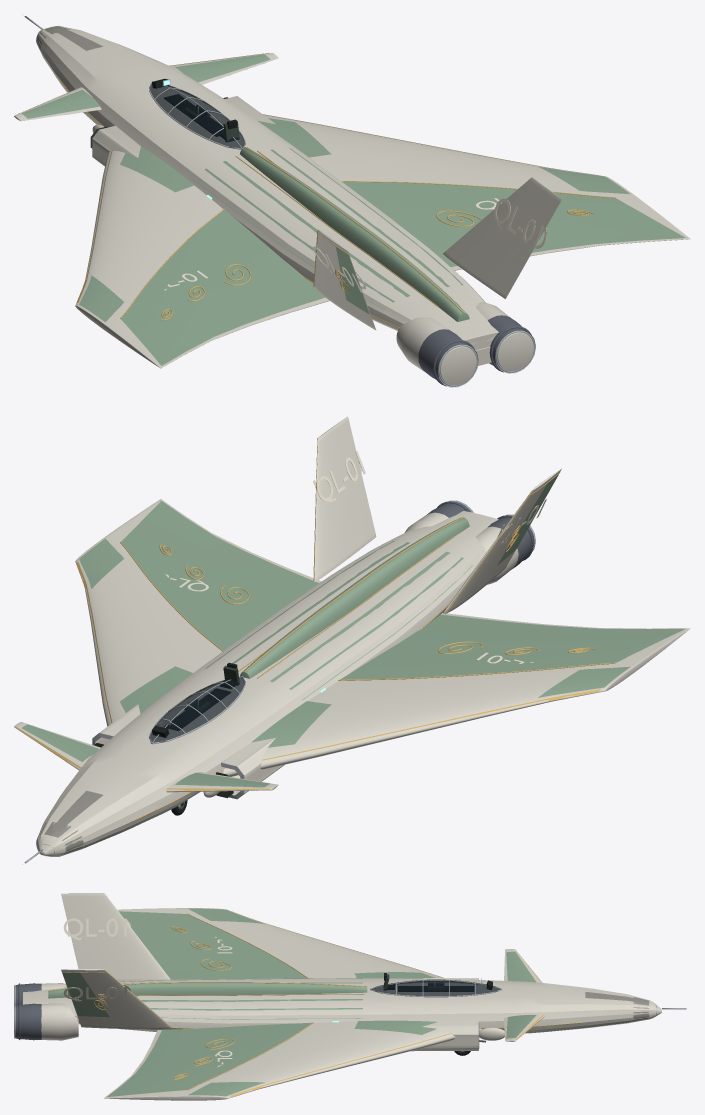
The model's file is showcase.glb.
3 renders of one model, top to bottom at view 1: azimuth 30°, elevation 25°; view 2: azimuth 150°, elevation 25°; view 3: azimuth 270°, elevation 25°, orthographic. The views are drawn at different scales.
Parts seen in each view (by area): view 1: showcase_body_Paint_Base, showcase_body_Paint_Secondary, showcase_body_Paint_Accent, showcase_body_Canopy_Glass, showcase_body_Metal_Heat, showcase_body_Metal_Detail, showcase_body_Paint_Marking, showcase_body_Paint_Dark, showcase_body_Paint_Radome; view 2: showcase_body_Paint_Base, showcase_body_Paint_Secondary, showcase_body_Paint_Accent, showcase_body_Canopy_Glass, showcase_body_Metal_Detail, showcase_body_Paint_Marking, showcase_body_Paint_Radome, showcase_body_Metal_Heat, showcase_body_Paint_Dark; view 3: showcase_body_Paint_Base, showcase_body_Paint_Secondary, showcase_body_Paint_Accent, showcase_body_Canopy_Glass, showcase_body_Metal_Heat, showcase_body_Paint_Marking, showcase_body_Metal_Detail, showcase_body_Paint_Radome, showcase_body_Paint_Dark.
Part boxes in pixels (x1,y1,x2,y2): showcase_body_Paint_Base: [14, 26, 690, 385]; showcase_body_Paint_Secondary: [21, 54, 685, 365]; showcase_body_Paint_Accent: [18, 53, 615, 328]; showcase_body_Canopy_Glass: [149, 83, 245, 148]; showcase_body_Metal_Heat: [418, 315, 531, 386]; showcase_body_Metal_Detail: [22, 14, 535, 387]; showcase_body_Paint_Marking: [164, 198, 546, 292]; showcase_body_Paint_Dark: [152, 78, 237, 139]; showcase_body_Paint_Radome: [36, 26, 102, 50]; showcase_body_Paint_Base: [14, 416, 690, 856]; showcase_body_Paint_Secondary: [21, 474, 685, 826]; showcase_body_Paint_Accent: [15, 438, 615, 821]; showcase_body_Canopy_Glass: [149, 677, 245, 743]; showcase_body_Metal_Detail: [22, 500, 535, 864]; showcase_body_Paint_Marking: [165, 451, 546, 663]; showcase_body_Paint_Radome: [37, 790, 103, 855]; showcase_body_Metal_Heat: [427, 501, 534, 568]; showcase_body_Paint_Dark: [152, 662, 237, 737]; showcase_body_Paint_Base: [14, 893, 661, 1100]; showcase_body_Paint_Secondary: [48, 908, 584, 1096]; showcase_body_Paint_Accent: [48, 914, 585, 1096]; showcase_body_Canopy_Glass: [371, 979, 500, 996]; showcase_body_Metal_Heat: [15, 983, 41, 1040]; showcase_body_Paint_Marking: [63, 918, 232, 1066]; showcase_body_Metal_Detail: [14, 978, 686, 1049]; showcase_body_Paint_Radome: [585, 992, 656, 1021]; showcase_body_Paint_Dark: [384, 973, 492, 991].
Bounding box in the file's own units: 15.2 × 4.86 × 23.09.
